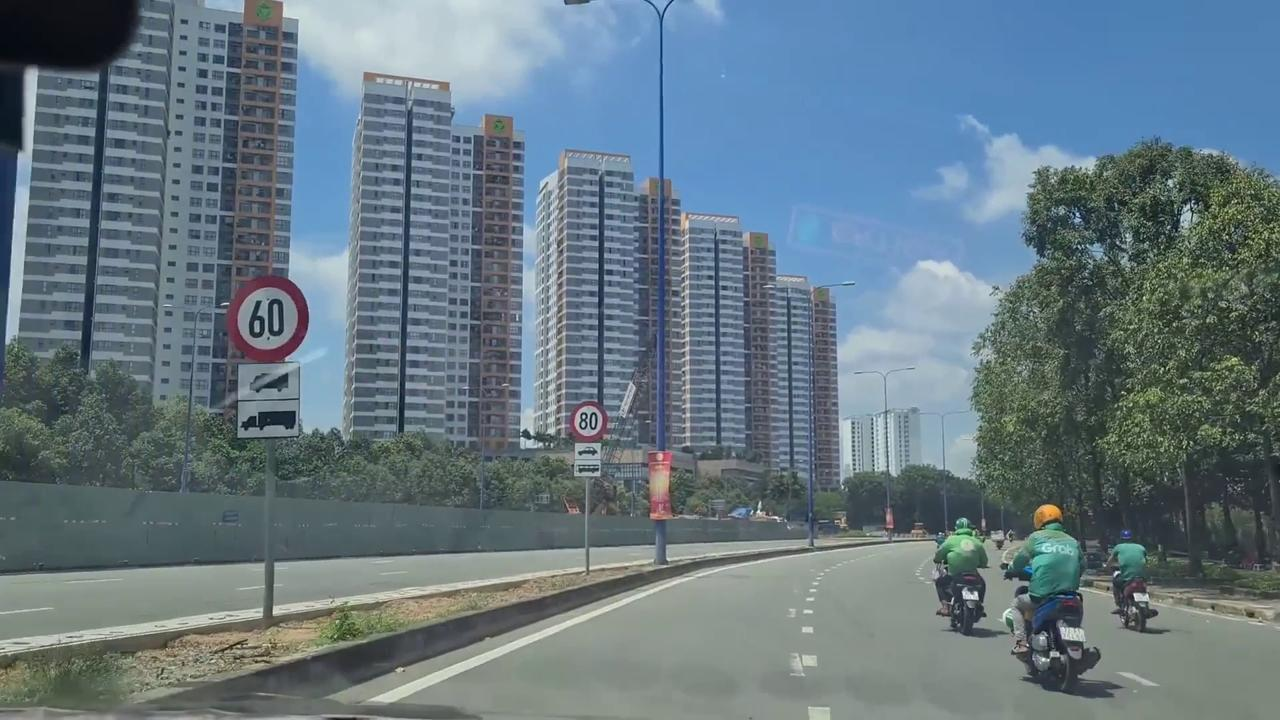Biển phụ: (236, 360, 301, 440), (574, 441, 602, 477)
GIơi hạn tốc độ 60Km/h: (226, 274, 311, 362)
Giới hạn tốc độ 80Km/h: (570, 400, 608, 442)
